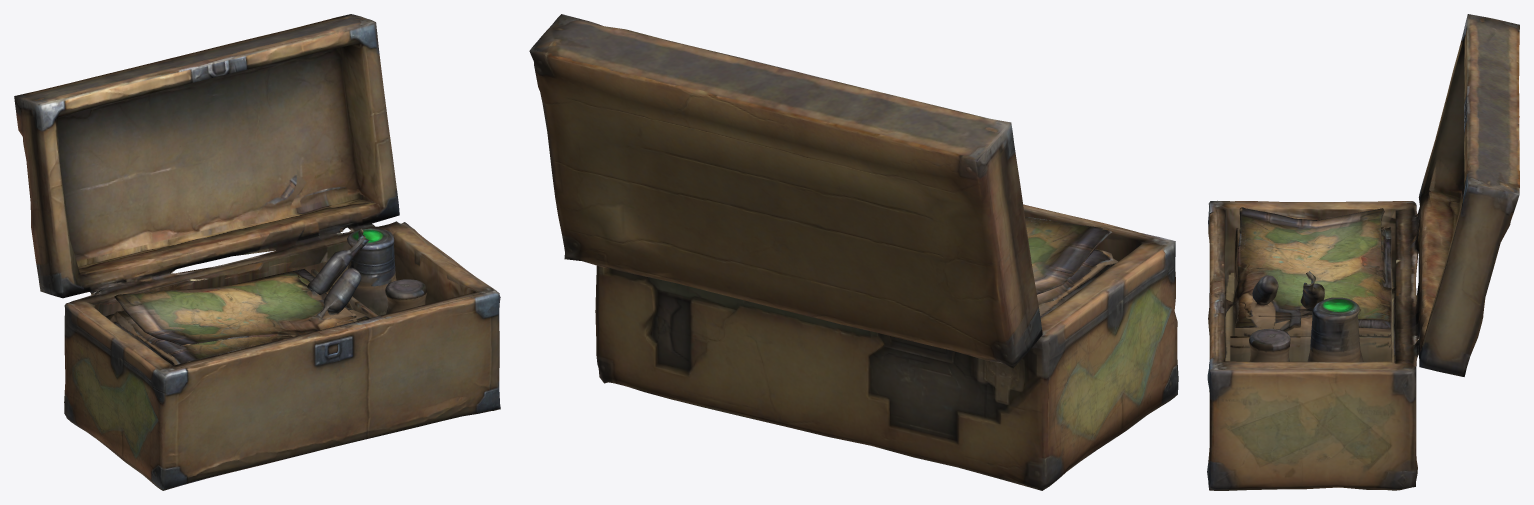
The model's file is A_low_poly_3D_box_des_0317202056_texture.fbx.
3 views of the same model, side by side, from view 1: azimuth 30°, elevation 25°; view 2: azimuth 150°, elevation 25°; view 3: azimuth 270°, elevation 25° (orthographic). The views are drawn at different scales.
Visible parts, largest first — view 1: Mesh1_Mesh1.005; view 2: Mesh1_Mesh1.005; view 3: Mesh1_Mesh1.005.
Boxes of the visible parts, x1,y1,x2,y2 form: Mesh1_Mesh1.005: [14, 14, 500, 490]; Mesh1_Mesh1.005: [529, 14, 1178, 490]; Mesh1_Mesh1.005: [1207, 14, 1519, 490].
Bounding box in the file's own units: 201 × 166 × 154.
Materials: 1 (1 with a texture image).
